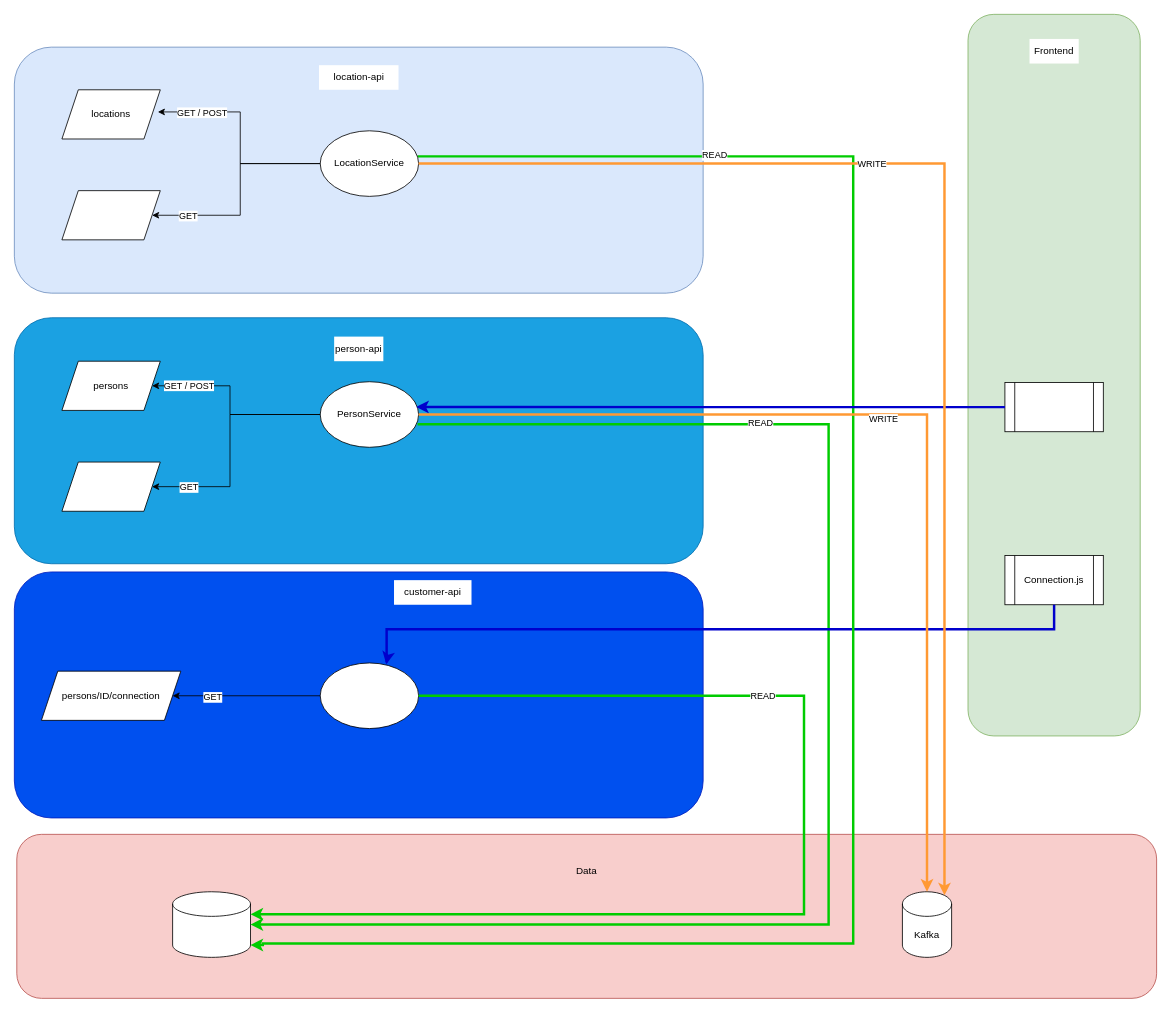
Some shapes in this 1171 by 1013 pixel diagram are drawn without their labels. Here are the shapes that lost their labels. From the top down, the centre of each, then its label:
the point at 110,215: locations/ID
the point at 1053,407: Persons.js
the point at 110,486: persons/ID
the point at 369,695: ConnectionService
the point at 211,924: SQLAlchemy
